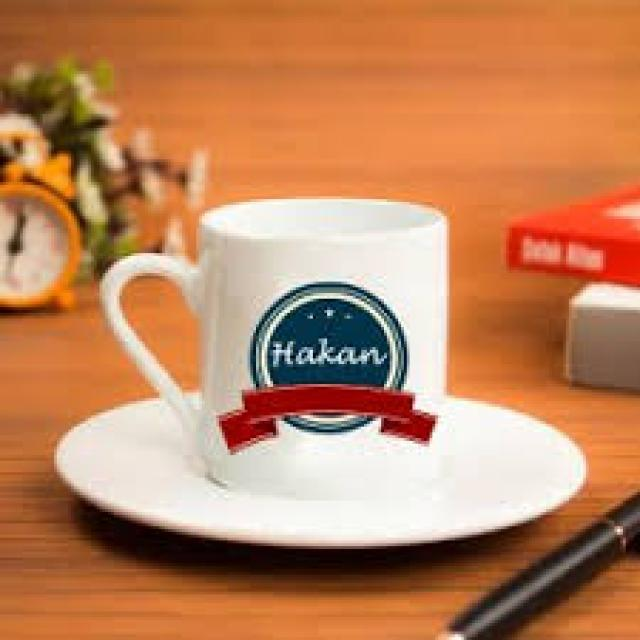taza: (101, 197, 447, 498)
